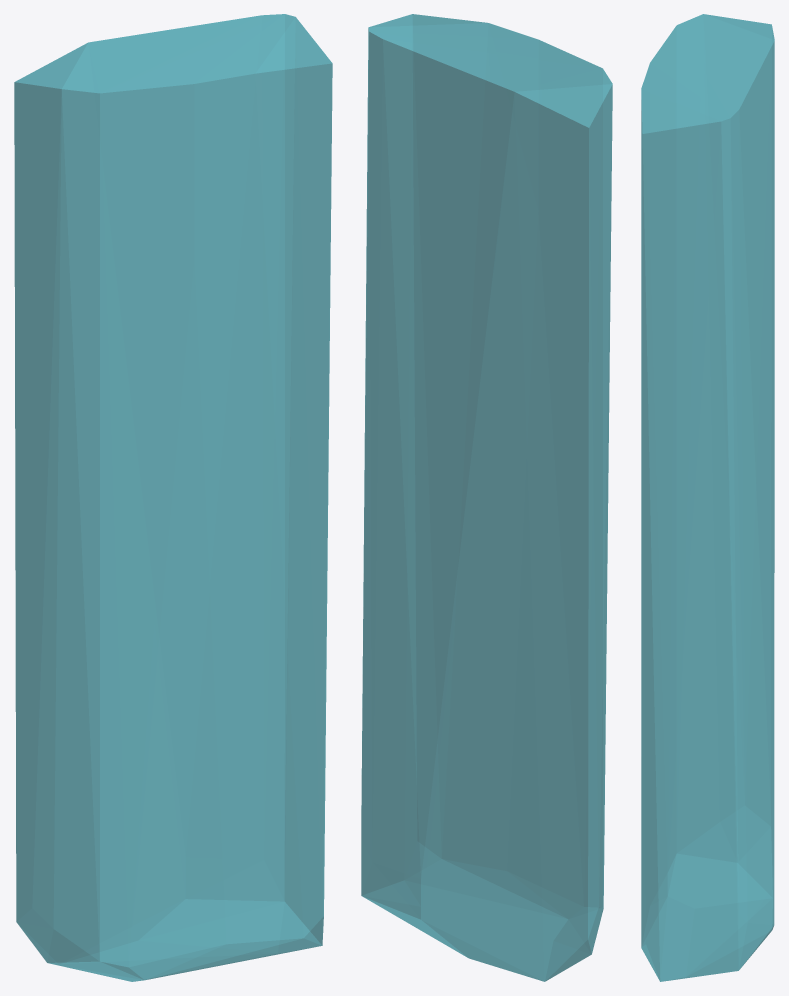
The picture shows the model from 3 angles, left to right: view 1: azimuth 30°, elevation 25°; view 2: azimuth 150°, elevation 25°; view 3: azimuth 270°, elevation 25°; orthographic projection. The views are drawn at different scales.
Visible parts, largest first — view 1: Shape_IndexedFaceSet.031_Shape_IndexedFaceSet.18254; view 2: Shape_IndexedFaceSet.031_Shape_IndexedFaceSet.18254; view 3: Shape_IndexedFaceSet.031_Shape_IndexedFaceSet.18254.
Part boxes in pixels (<box>): Shape_IndexedFaceSet.031_Shape_IndexedFaceSet.18254: <box>14,14,332,981</box>; Shape_IndexedFaceSet.031_Shape_IndexedFaceSet.18254: <box>361,14,612,981</box>; Shape_IndexedFaceSet.031_Shape_IndexedFaceSet.18254: <box>641,14,774,981</box>.
Size of the model in its own units: 0.1705 by 0.5863 by 0.0812.
